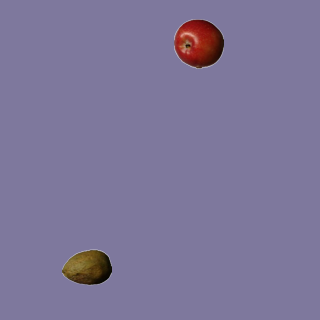Apple Braeburn: (173, 18, 223, 68)
Papaya: (61, 242, 111, 292)
